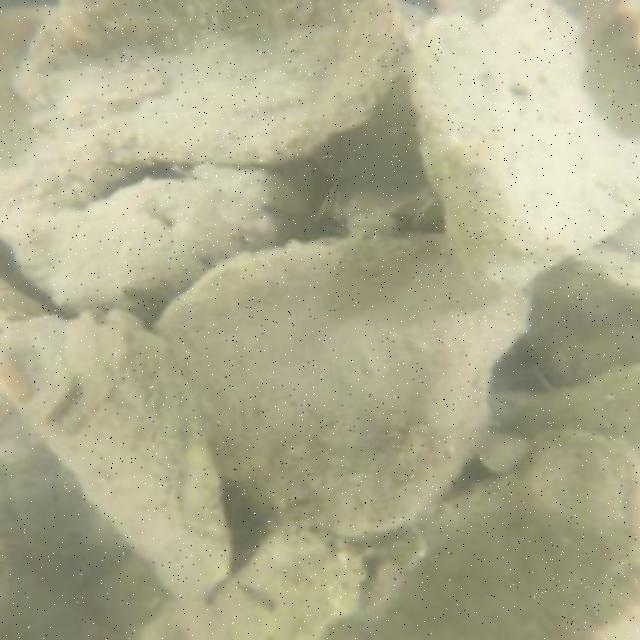Oyster-Closed: (156, 230, 536, 538), (0, 315, 233, 607), (8, 0, 404, 163), (420, 2, 636, 297)
